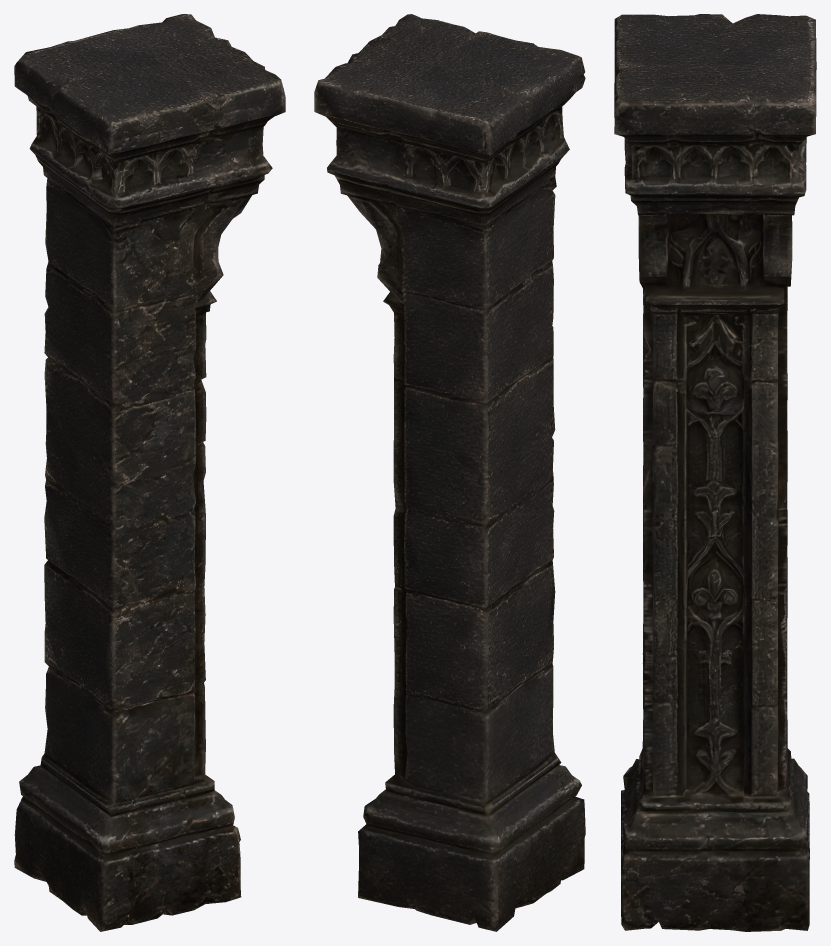
File: raw_hearthjamb.glb
3 renders of one model, left to right at view 1: azimuth 30°, elevation 25°; view 2: azimuth 150°, elevation 25°; view 3: azimuth 270°, elevation 25°, orthographic. The views are drawn at different scales.
Parts seen in each view (by area): view 1: tripo_node_f0541ac7-92ca-463f-85d3-ee512f2cb1ad; view 2: tripo_node_f0541ac7-92ca-463f-85d3-ee512f2cb1ad; view 3: tripo_node_f0541ac7-92ca-463f-85d3-ee512f2cb1ad.
Boxes of the visible parts, <box> form: tripo_node_f0541ac7-92ca-463f-85d3-ee512f2cb1ad: <box>14,14,285,931</box>; tripo_node_f0541ac7-92ca-463f-85d3-ee512f2cb1ad: <box>314,14,585,931</box>; tripo_node_f0541ac7-92ca-463f-85d3-ee512f2cb1ad: <box>614,14,816,931</box>.
Bounding box in the file's own units: 0.2329 × 1 × 0.2157.
1 material, 1 textured.
